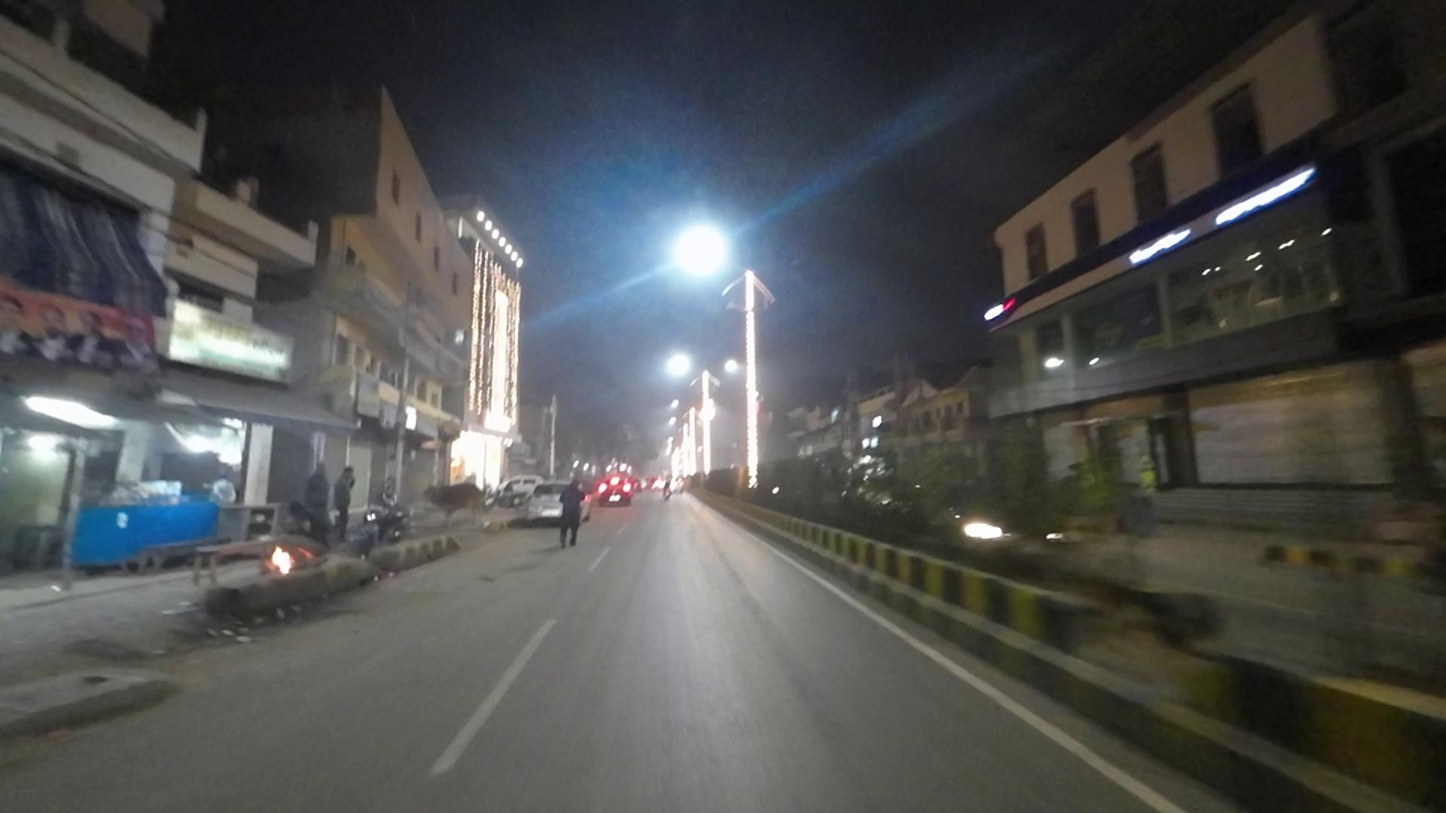streetlight: (754, 257, 806, 270)
